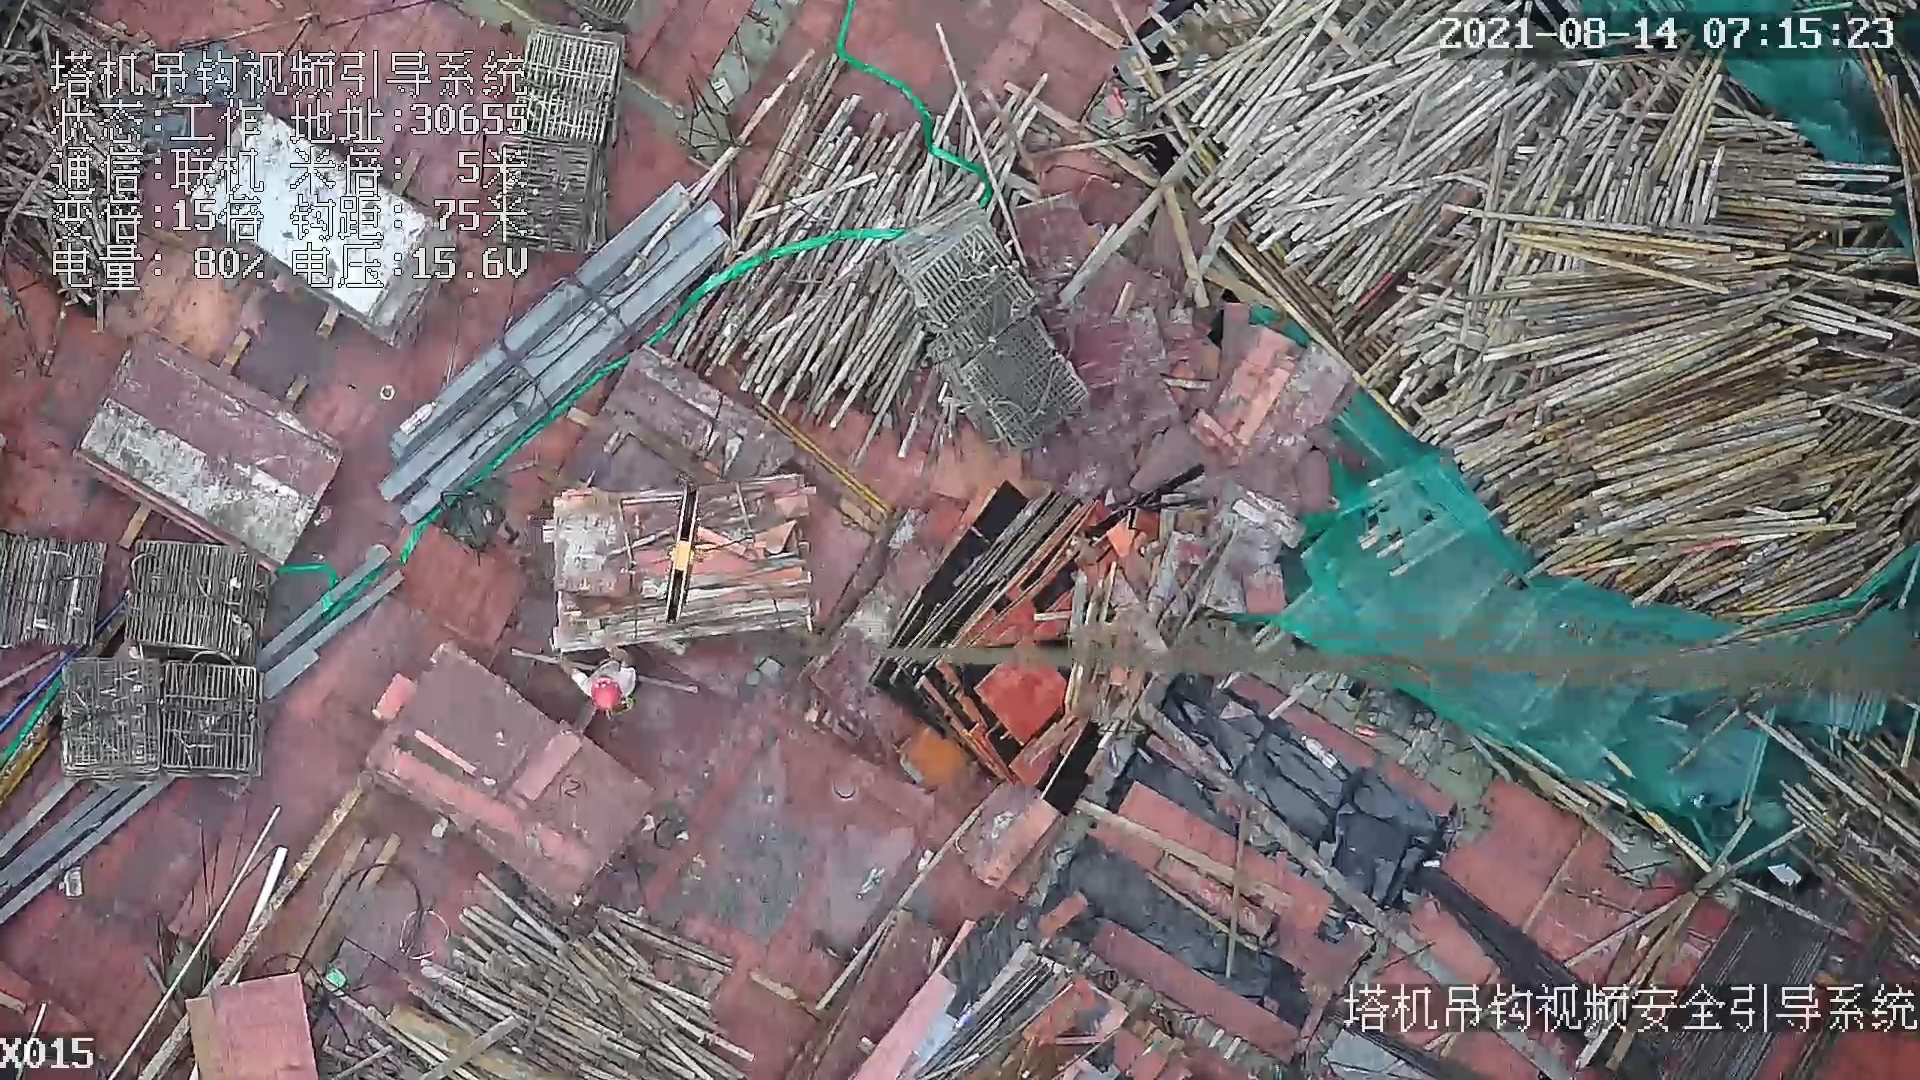helmet: (589, 680, 629, 716)
hook: (655, 478, 705, 639)
person: (541, 644, 640, 717)
